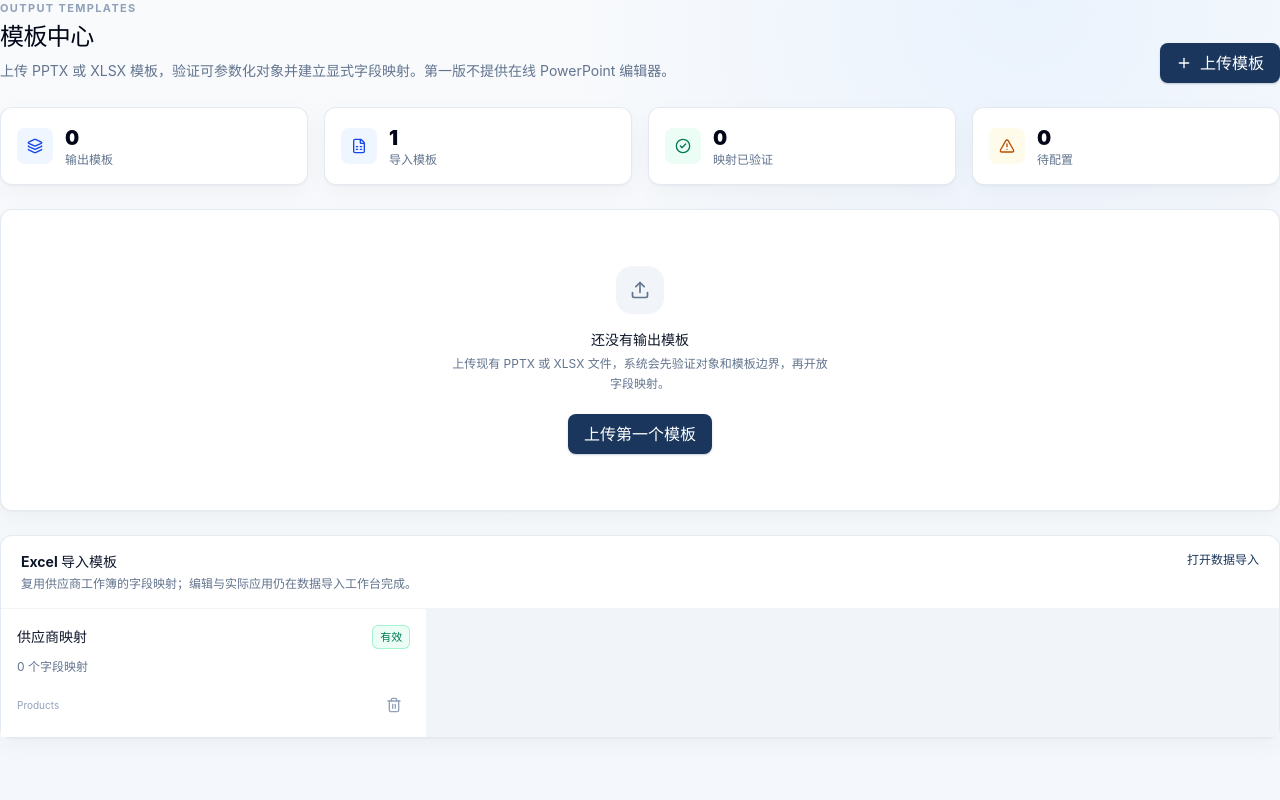
TemplateCenterPage › lets an administrator delete an import template after confirmation
This screenshot has width=1280, height=800.
Step 1. Click the button named "删除导入模板 供应商映射" → (394, 705), box [378,689,410,721]
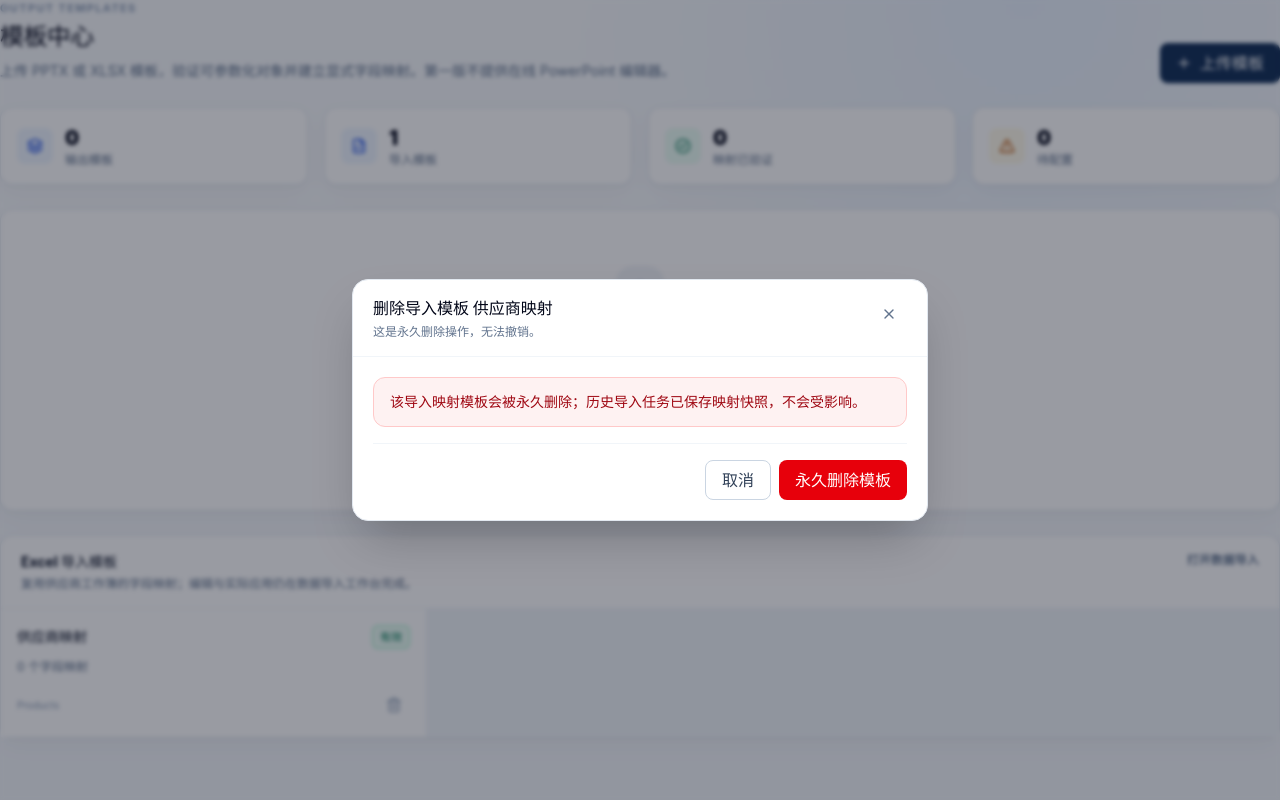
Step 2. Click the button "永久删除模板" → (843, 480), box [779,460,907,500]
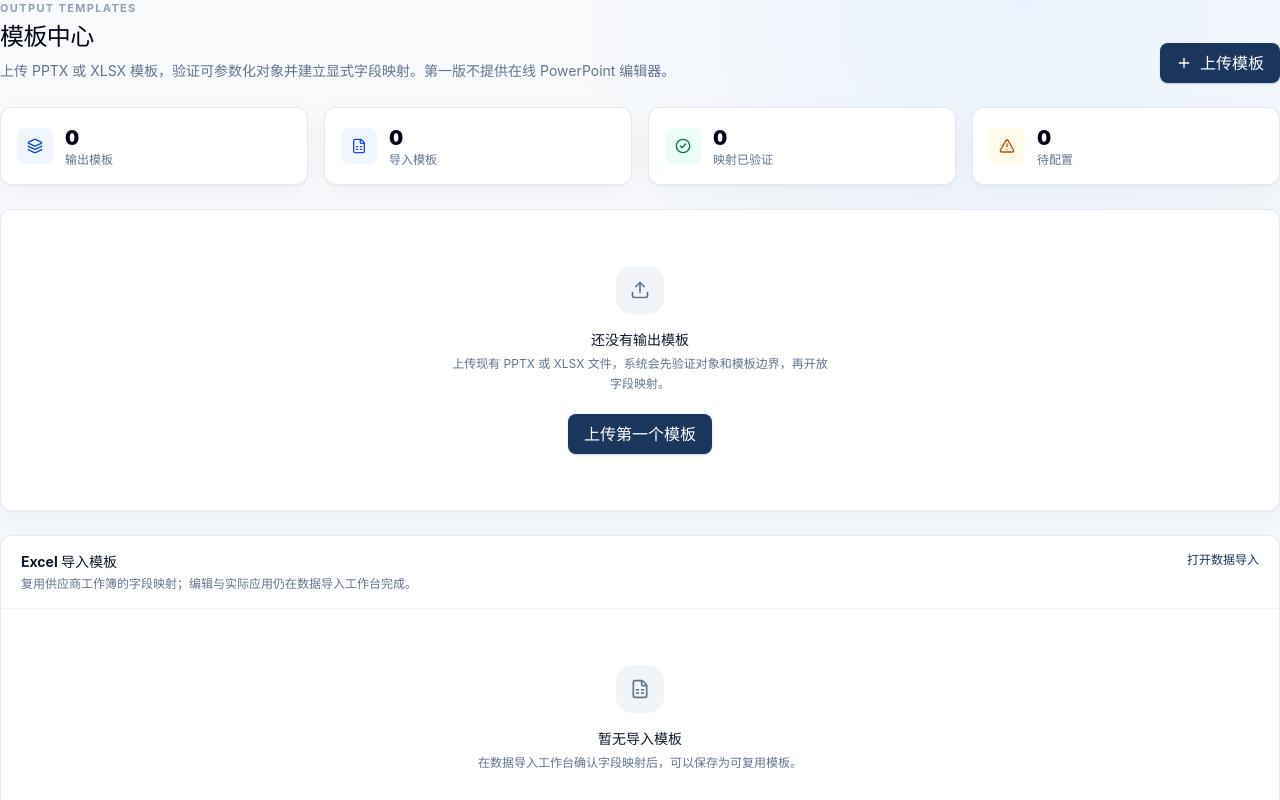
Result: the link "供应商映射" is gone
